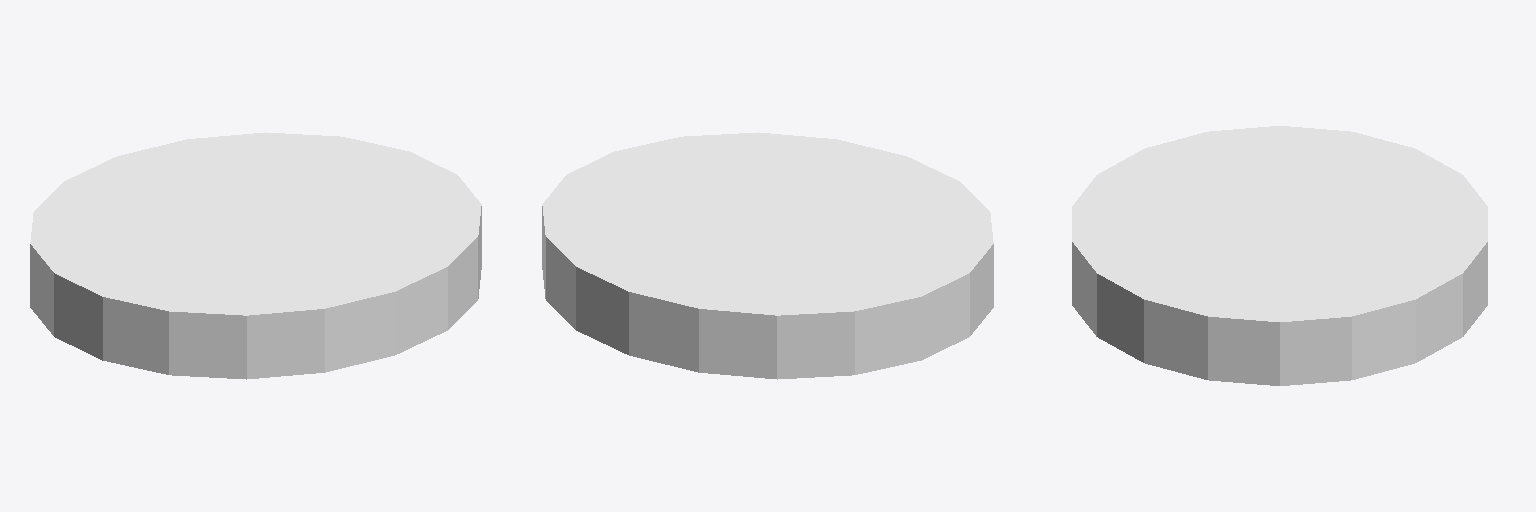
File: original-7.obj
3 renders of one model, left to right at view 1: azimuth 30°, elevation 25°; view 2: azimuth 150°, elevation 25°; view 3: azimuth 270°, elevation 25°, orthographic.
Parts seen in each view (by area): view 1: mesh5/mesh5-geometry#mesh5-geometry; view 2: mesh5/mesh5-geometry#mesh5-geometry; view 3: mesh5/mesh5-geometry#mesh5-geometry.
Boxes of the visible parts, <box> form: mesh5/mesh5-geometry#mesh5-geometry: <box>30,132,481,379</box>; mesh5/mesh5-geometry#mesh5-geometry: <box>542,132,993,379</box>; mesh5/mesh5-geometry#mesh5-geometry: <box>1072,126,1487,385</box>.
Size of the model in its own units: 0.0644 by 0.0097 by 0.0576.